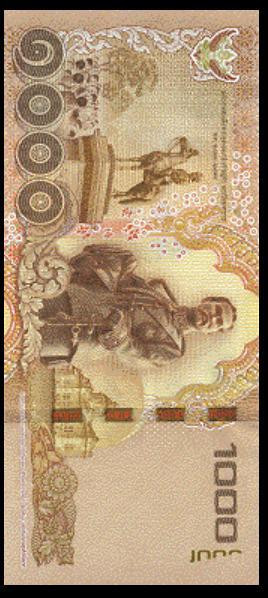1000BahtTai: (8, 16, 259, 584)
